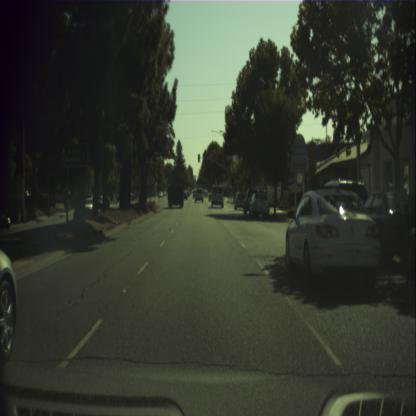off: (198, 154, 200, 162)
